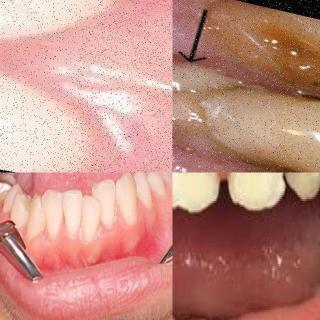Gum Swelling: (0, 0, 172, 172), (172, 0, 223, 172), (173, 172, 219, 210)
calculus: (172, 54, 258, 160)
cavities: (251, 14, 320, 94)
maligned: (80, 195, 104, 242)
